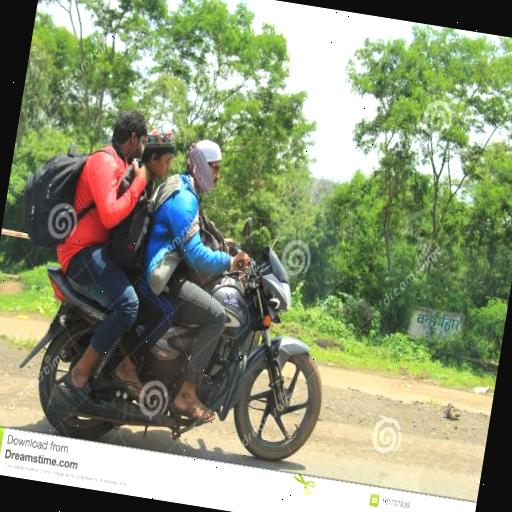no helmet: (168, 121, 236, 248)
triple riding: (3, 82, 309, 332)
